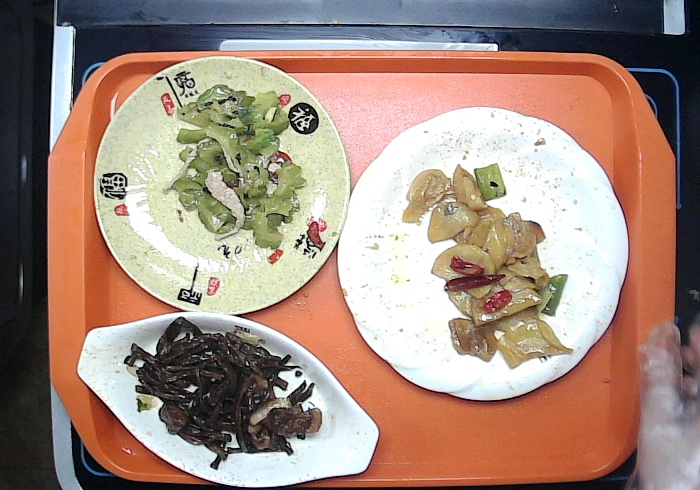NLDX-Bai_Zhe_Yuan_Pan: (327, 103, 633, 410)
NLDX-Fu_Zi_Yuan_Pan: (87, 51, 357, 319)
NLDX-Yu_Pan: (70, 308, 384, 487)
